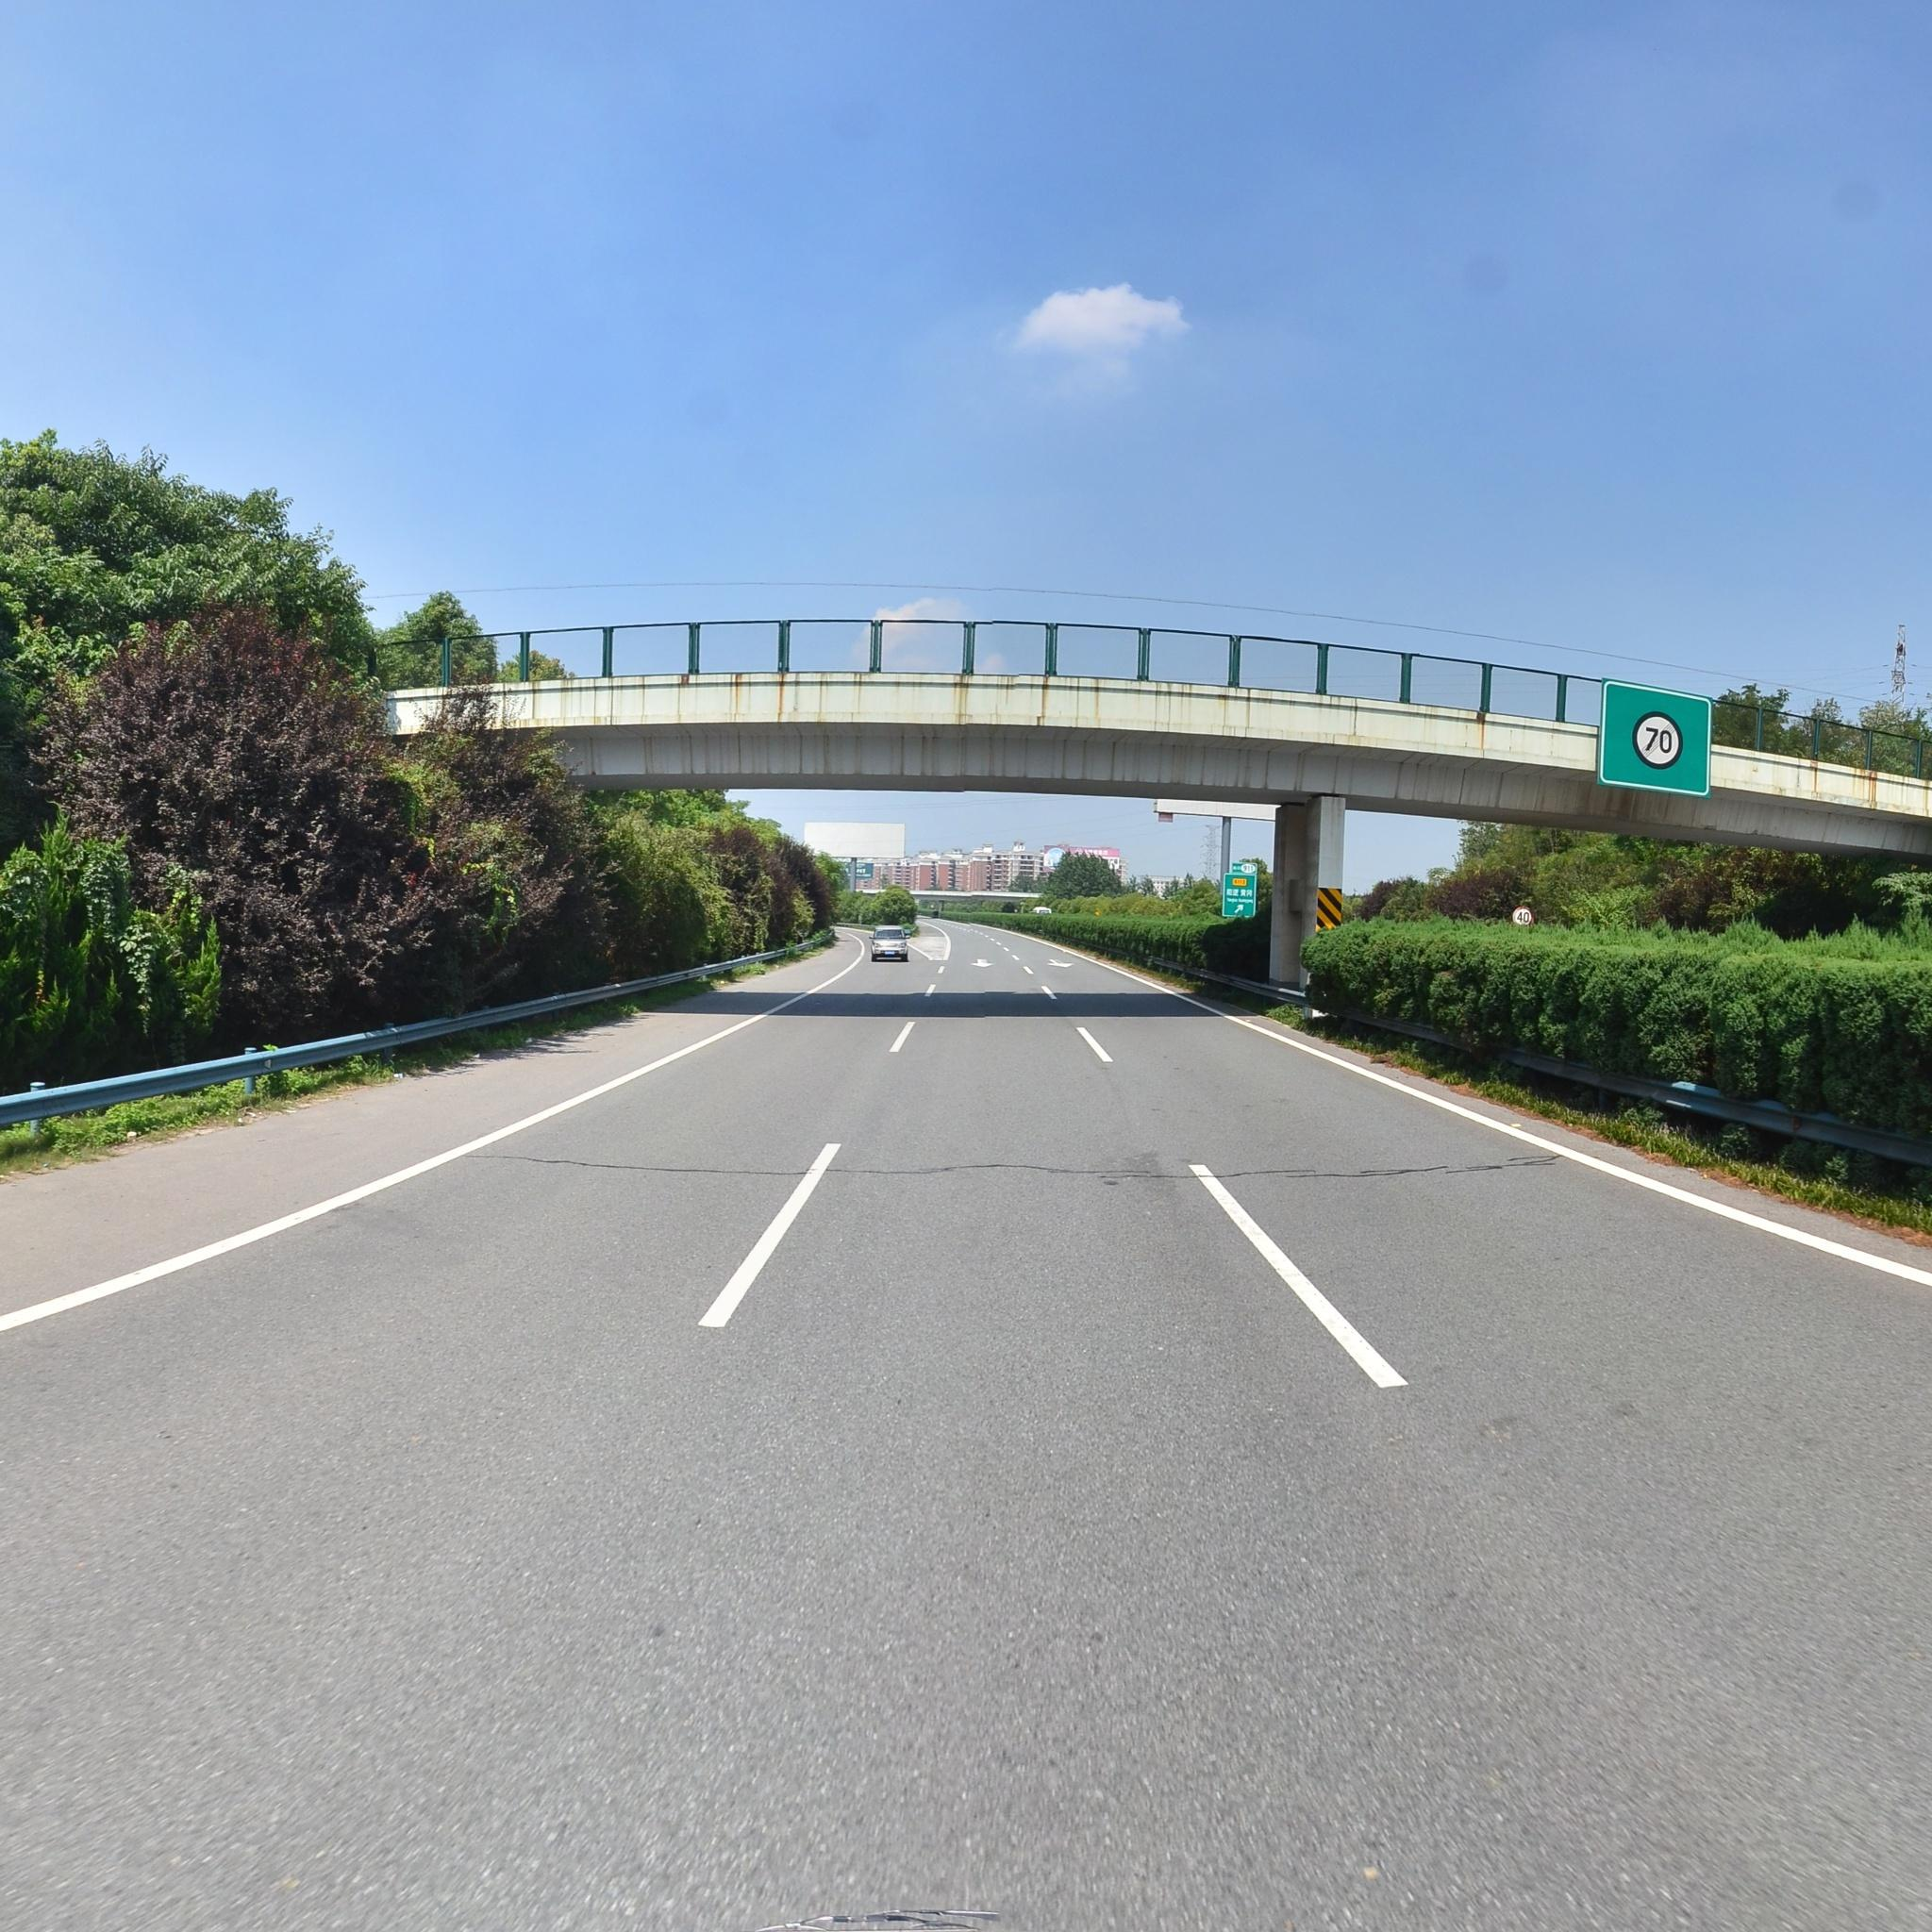pl40: (1513, 902, 1536, 925)
